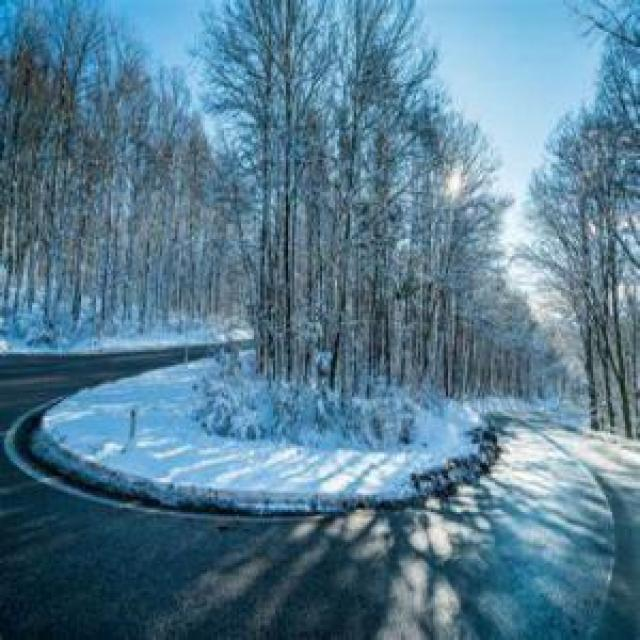clear-road: (0, 349, 640, 640)
